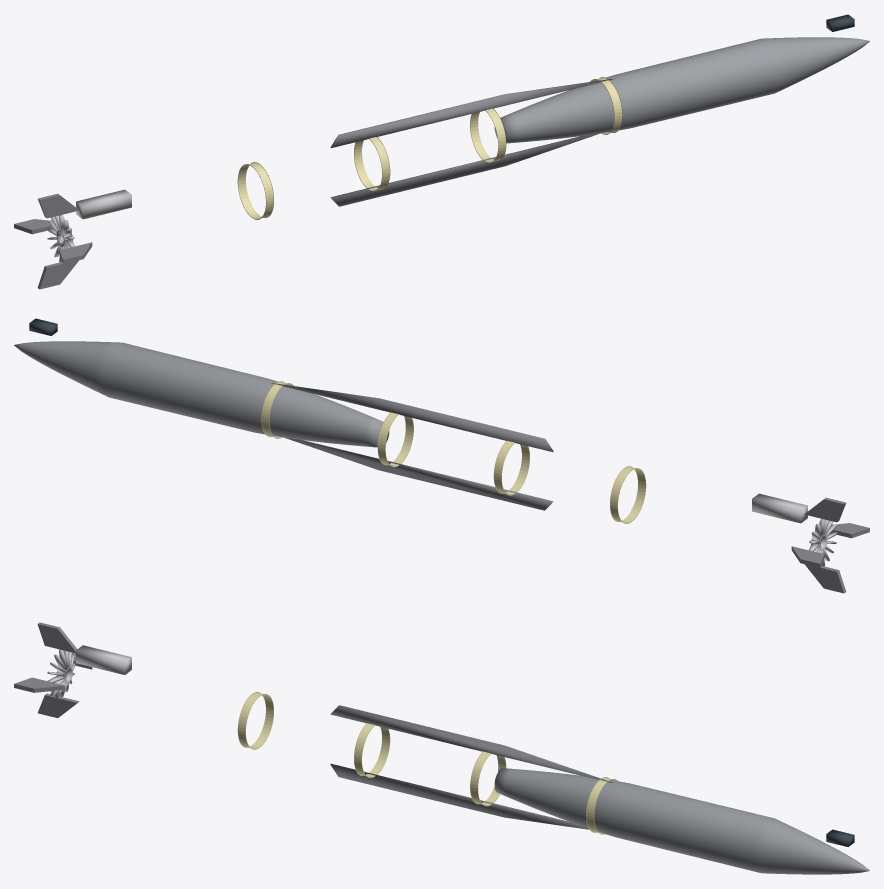
Rendered from RU_TORP_6576_LOD0.fbx.
3 views of the same model, one above another, from view 1: azimuth 30°, elevation 25°; view 2: azimuth 150°, elevation 25°; view 3: azimuth 330°, elevation 25° (orthographic).
Parts seen in each view (by area): view 1: WPN_RU_TORP_6576_LOD0_Body, WPN_RU_TORP_6576_LOD0_Detail, WPN_RU_TORP_6576_LOD0_Marking, WPN_RU_TORP_6576_LOD0_Fins, WPN_RU_TORP_6576_LOD0_Propulsor; view 2: WPN_RU_TORP_6576_LOD0_Body, WPN_RU_TORP_6576_LOD0_Detail, WPN_RU_TORP_6576_LOD0_Marking, WPN_RU_TORP_6576_LOD0_Fins, WPN_RU_TORP_6576_LOD0_Propulsor; view 3: WPN_RU_TORP_6576_LOD0_Body, WPN_RU_TORP_6576_LOD0_Detail, WPN_RU_TORP_6576_LOD0_Marking, WPN_RU_TORP_6576_LOD0_Fins, WPN_RU_TORP_6576_LOD0_Propulsor.
Boxes of the visible parts, box(x1,y1,x2,y2) form: WPN_RU_TORP_6576_LOD0_Body: box(494, 37, 869, 143); WPN_RU_TORP_6576_LOD0_Detail: box(76, 79, 612, 219); WPN_RU_TORP_6576_LOD0_Marking: box(237, 77, 622, 219); WPN_RU_TORP_6576_LOD0_Fins: box(14, 193, 92, 289); WPN_RU_TORP_6576_LOD0_Propulsor: box(46, 214, 74, 262); WPN_RU_TORP_6576_LOD0_Body: box(14, 341, 389, 447); WPN_RU_TORP_6576_LOD0_Detail: box(271, 383, 807, 523); WPN_RU_TORP_6576_LOD0_Marking: box(261, 381, 646, 523); WPN_RU_TORP_6576_LOD0_Fins: box(791, 497, 869, 593); WPN_RU_TORP_6576_LOD0_Propulsor: box(809, 518, 837, 566); WPN_RU_TORP_6576_LOD0_Body: box(494, 768, 869, 874); WPN_RU_TORP_6576_LOD0_Detail: box(76, 645, 612, 829); WPN_RU_TORP_6576_LOD0_Marking: box(237, 692, 617, 834); WPN_RU_TORP_6576_LOD0_Fins: box(14, 622, 92, 718); WPN_RU_TORP_6576_LOD0_Propulsor: box(47, 649, 75, 698).
Size of the model in its own units: 11.02 by 1.13 by 1.13.
